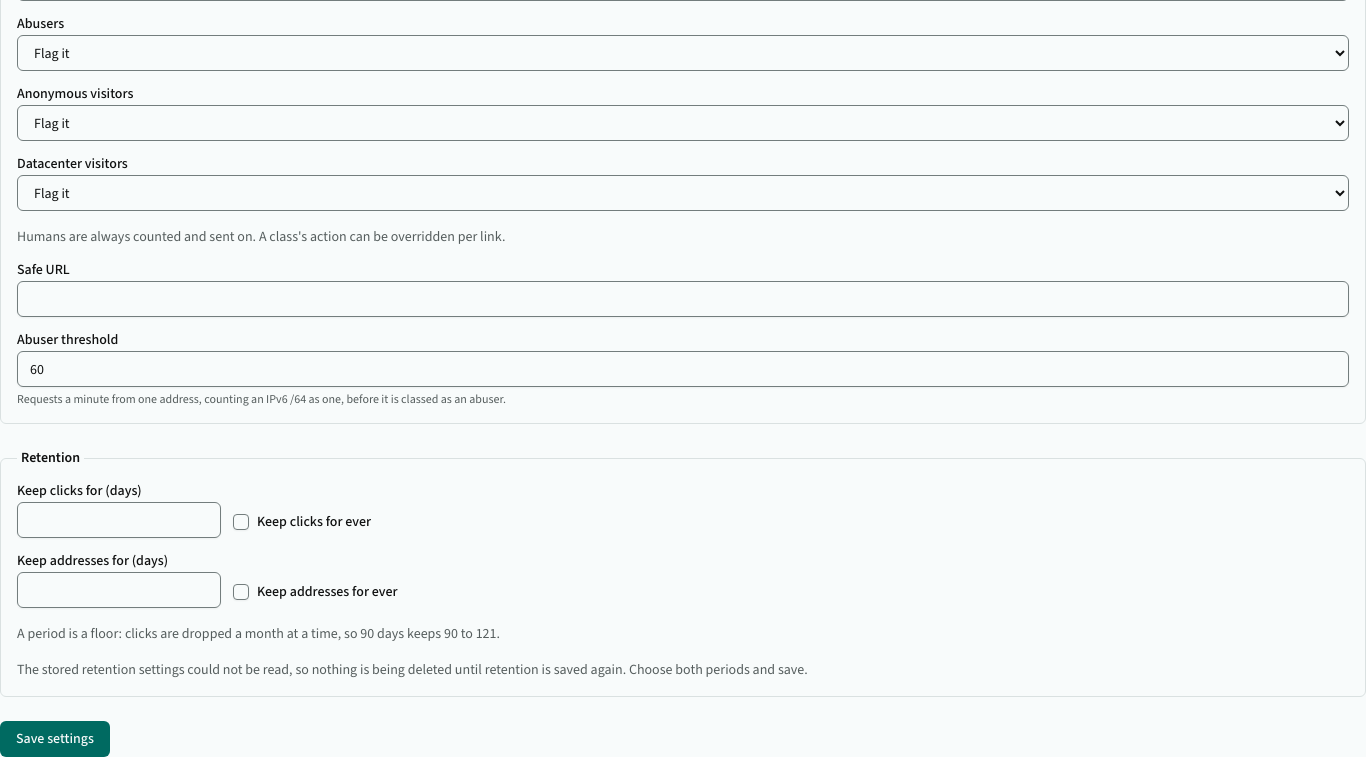
Test case: the settings screen › rejects an unreadable retention row that was never filled in, and sends nothing
This screenshot has width=1366, height=757.
(page scrolled)
Click the button "Save settings". click: (55, 739)
box: [0,721,110,756]
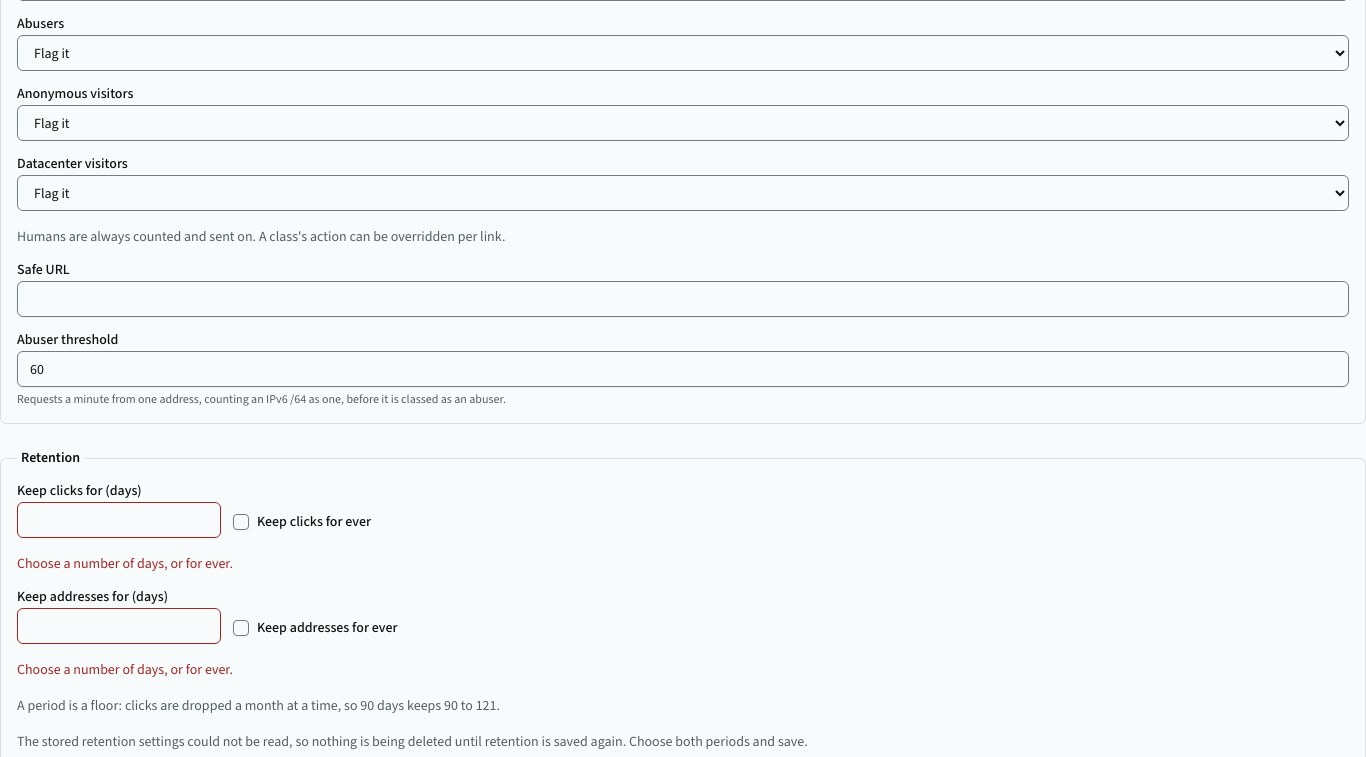
Result: the text "Choose a number of days, or for ever." is shown 2 times at [17,554,233,573]; [17,660,233,679]
